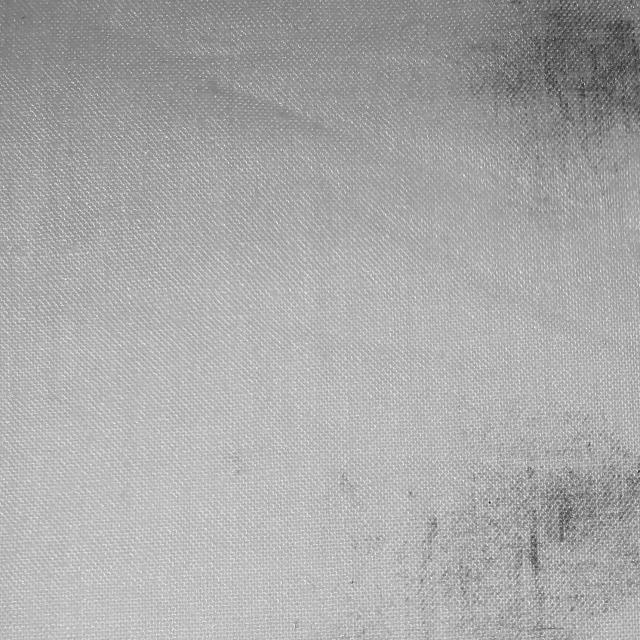Stain: (417, 429, 640, 640), (482, 0, 640, 168)
